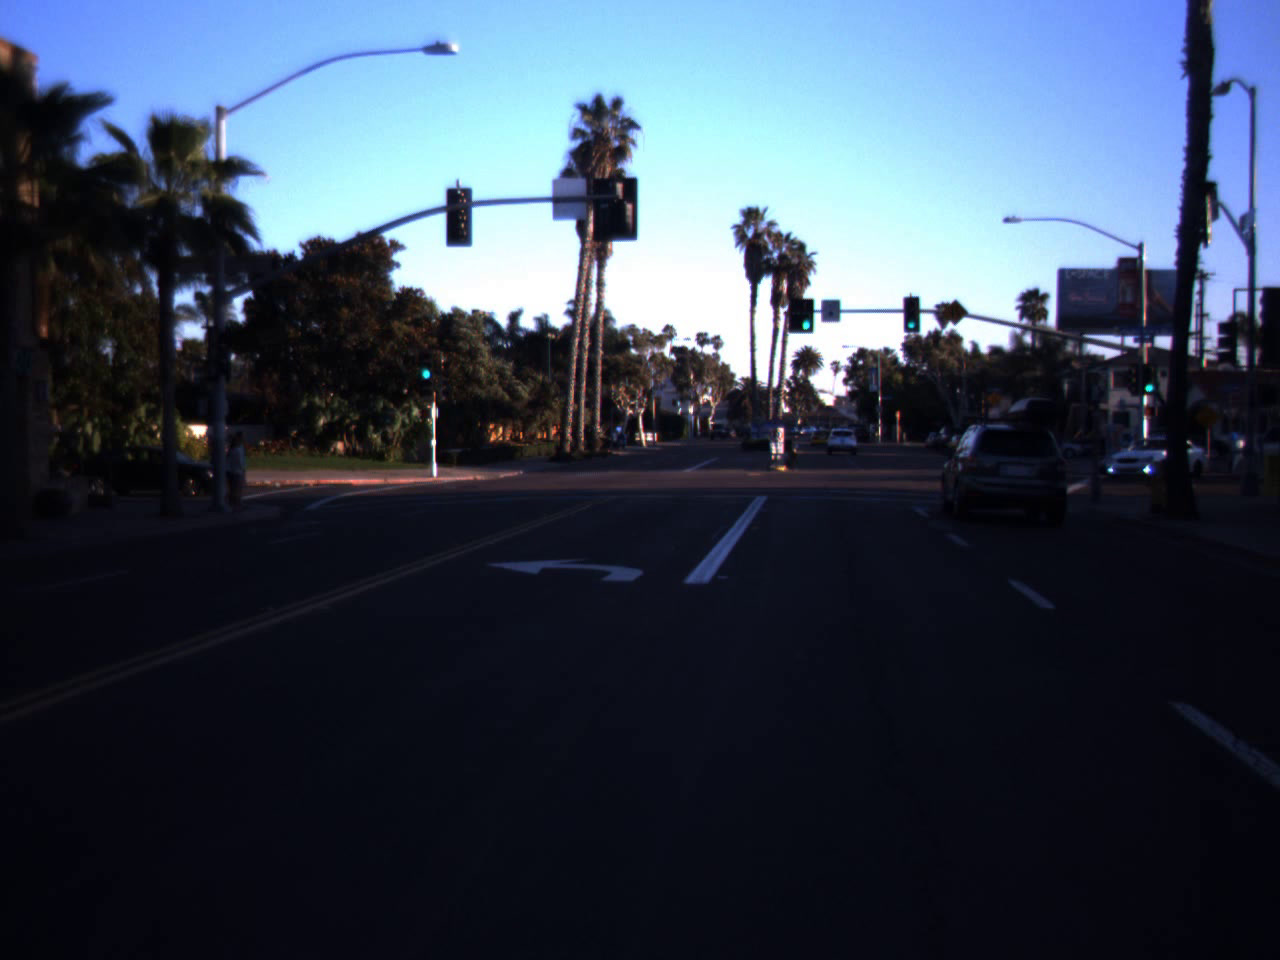go: (900, 301, 924, 330), (417, 346, 435, 381), (799, 297, 814, 332)
